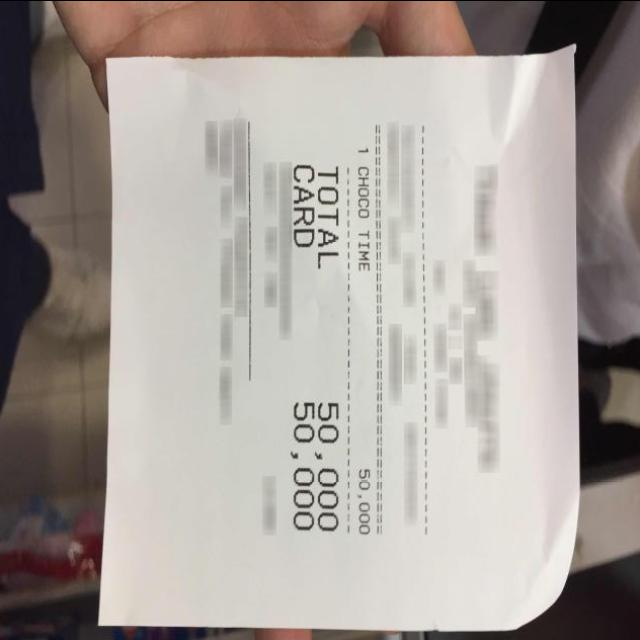kertas: (101, 47, 579, 628)
